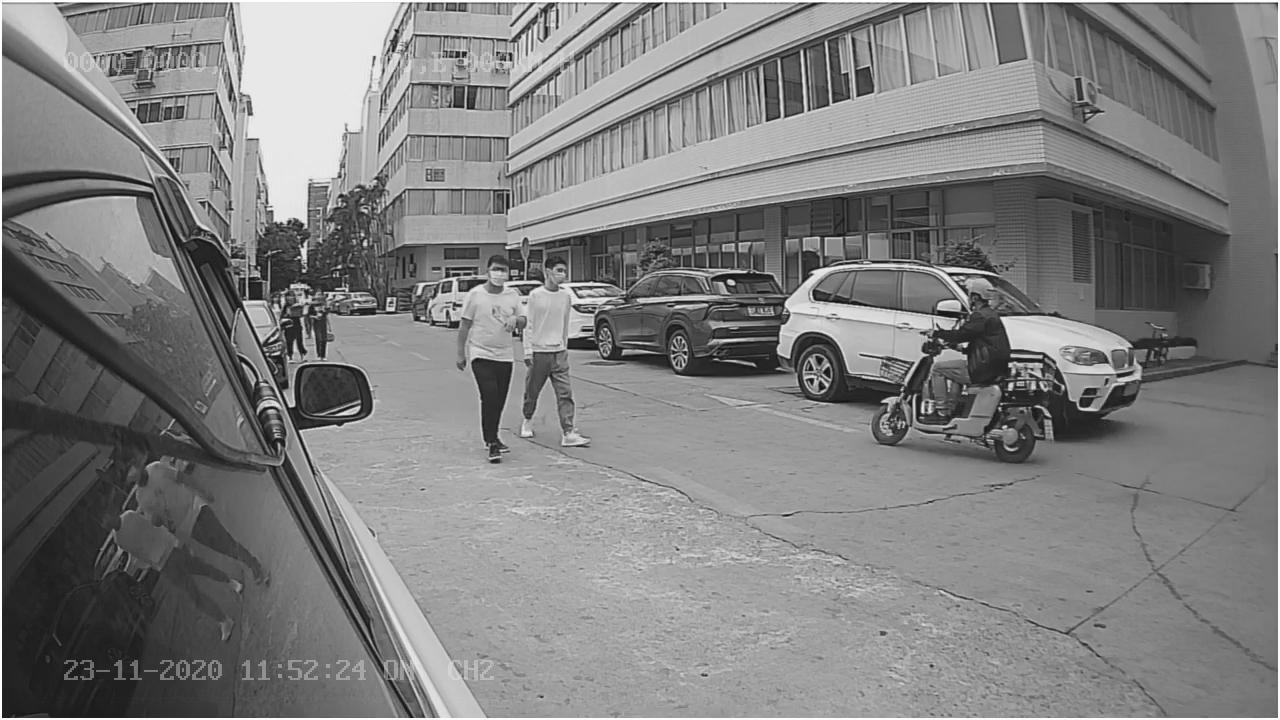person: (520, 257, 582, 442), (466, 249, 518, 454)
